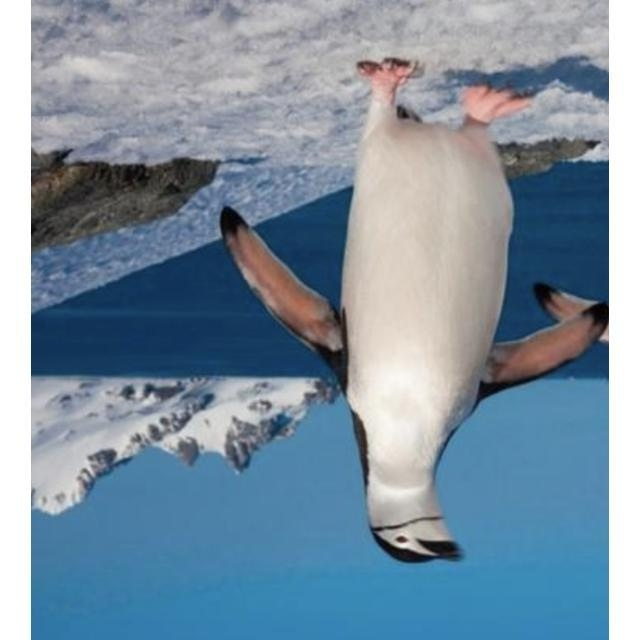penguin: (220, 55, 606, 566)
